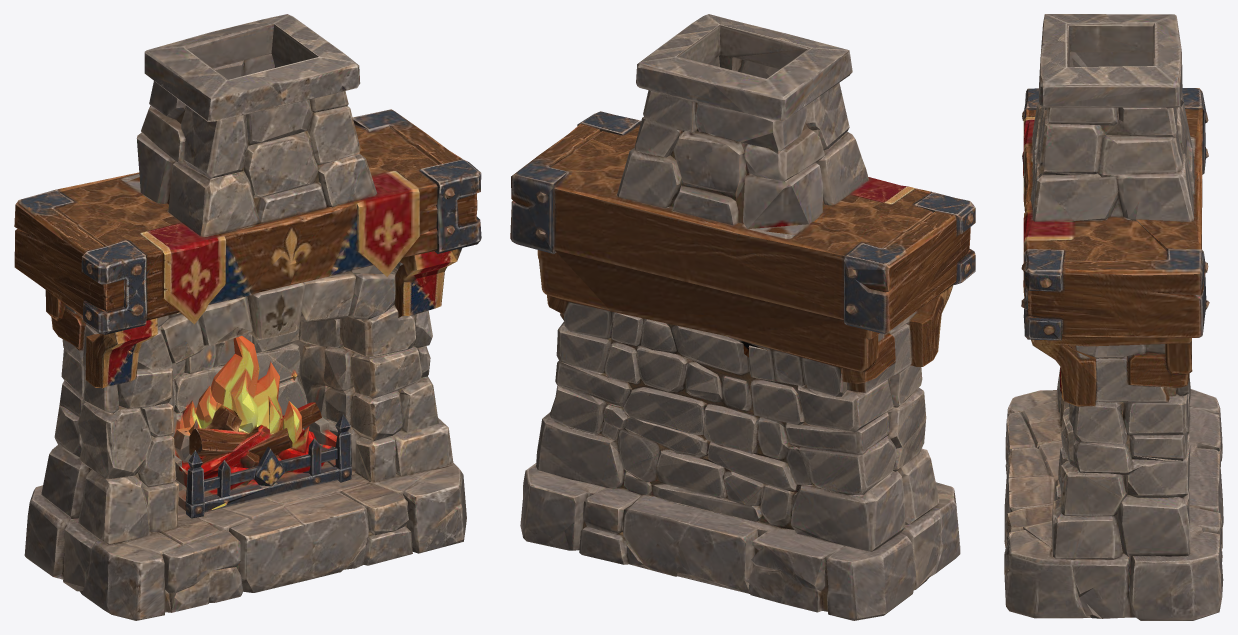
Rendered from fireplace.glb.
3 views of the same model, side by side, from view 1: azimuth 30°, elevation 25°; view 2: azimuth 150°, elevation 25°; view 3: azimuth 270°, elevation 25° (orthographic).
Parts seen in each view (by area): view 1: output_unwrapped; view 2: output_unwrapped; view 3: output_unwrapped.
Boxes of the visible parts, x1,y1,x2,y2 form: output_unwrapped: (14, 14, 481, 620); output_unwrapped: (510, 14, 975, 620); output_unwrapped: (1004, 14, 1223, 620).
Bounding box in the file's own units: 1.58 × 1.9 × 0.7733.
Materials: 1 (1 with a texture image).
